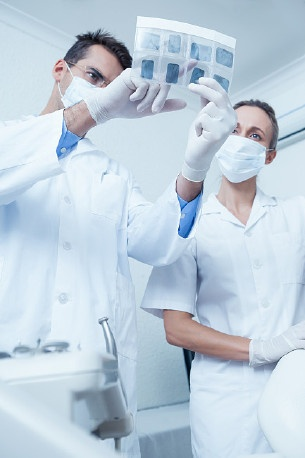Mask: (215, 119, 279, 183)
